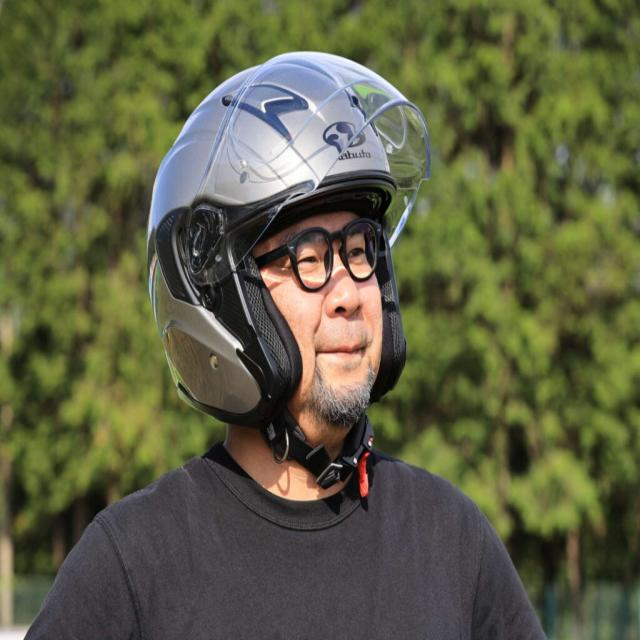helmet: (138, 40, 432, 497)
